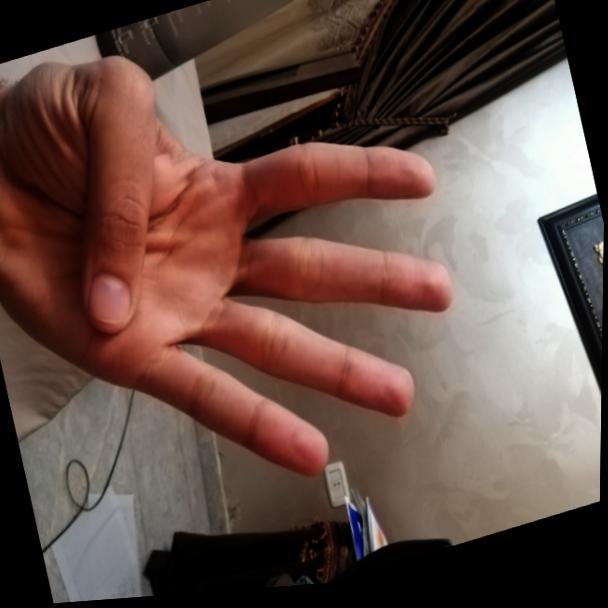four: (0, 0, 511, 552)
